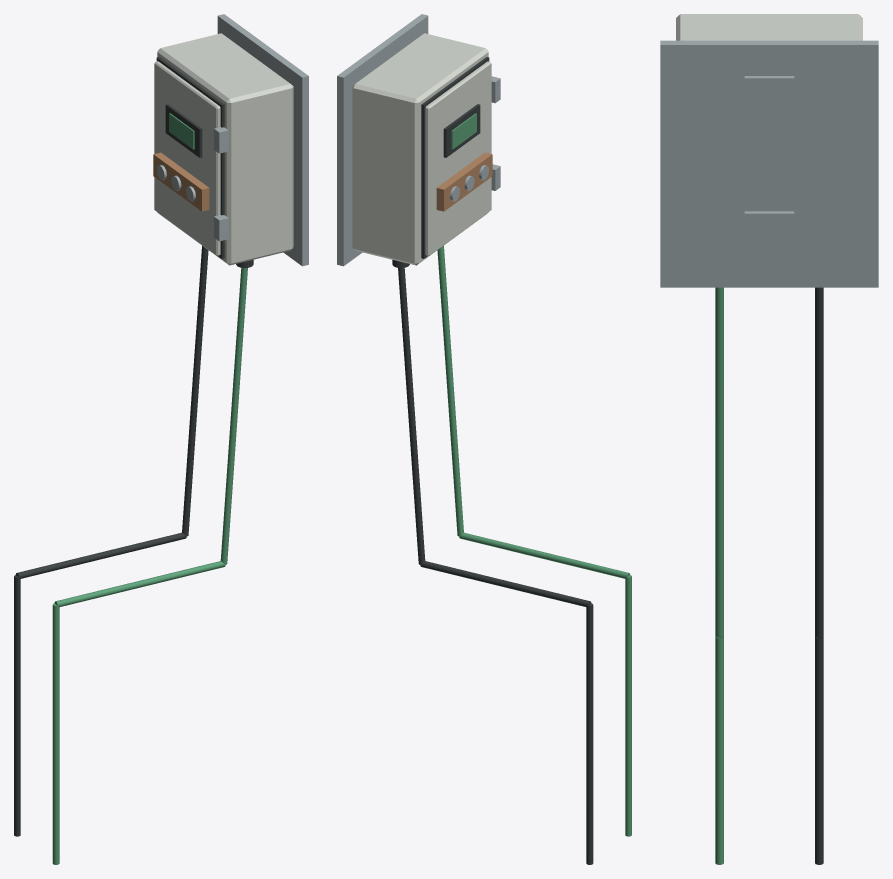
Rendered from mine-ground-monitor.glb.
3 renders of one model, left to right at view 1: azimuth 30°, elevation 25°; view 2: azimuth 150°, elevation 25°; view 3: azimuth 270°, elevation 25°, orthographic. The views are drawn at different scales.
Visible parts, largest first — view 1: ground-monitor__main__Protection_paint, ground-monitor__main__Protection_dark, ground-monitor__main__Protection_green, ground-monitor__main__Protection_metal, ground-monitor__main__Protection_copper; view 2: ground-monitor__main__Protection_paint, ground-monitor__main__Protection_dark, ground-monitor__main__Protection_green, ground-monitor__main__Protection_metal, ground-monitor__main__Protection_copper; view 3: ground-monitor__main__Protection_metal, ground-monitor__main__Protection_dark, ground-monitor__main__Protection_green, ground-monitor__main__Protection_paint.
Part boxes in pixels (x1,y1,x2,y2): ground-monitor__main__Protection_paint: (154,33,293,265); ground-monitor__main__Protection_dark: (14,57,253,836); ground-monitor__main__Protection_green: (52,113,247,864); ground-monitor__main__Protection_metal: (156,14,308,266); ground-monitor__main__Protection_copper: (153,152,209,211); ground-monitor__main__Protection_paint: (352,33,491,265); ground-monitor__main__Protection_dark: (392,57,593,864); ground-monitor__main__Protection_green: (437,113,631,836); ground-monitor__main__Protection_metal: (337,14,500,266); ground-monitor__main__Protection_copper: (436,152,492,211); ground-monitor__main__Protection_metal: (660,40,878,287); ground-monitor__main__Protection_dark: (815,287,823,864); ground-monitor__main__Protection_green: (715,287,723,864); ground-monitor__main__Protection_paint: (676,14,862,40).
Bounding box in the file's own units: 0.564 × 1.71 × 0.35.
